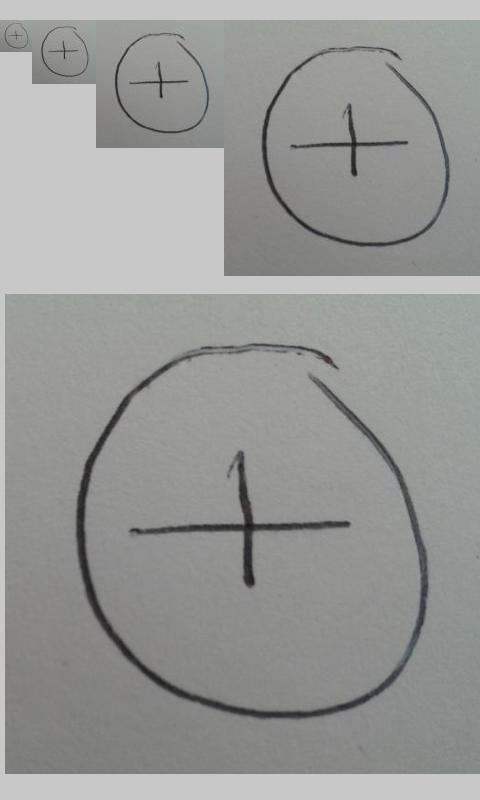button: (73, 342, 433, 724), (260, 44, 451, 248), (114, 31, 210, 135), (40, 25, 90, 78), (4, 22, 29, 49)
